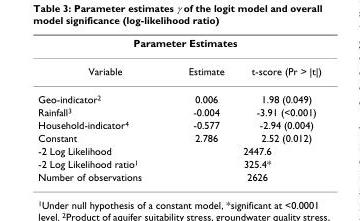table: (37, 36, 320, 182)
table column: (37, 36, 164, 182), (237, 36, 320, 182), (164, 36, 237, 182)
table column header: (37, 36, 320, 84)
table row: (37, 56, 320, 84), (37, 84, 320, 105), (37, 36, 320, 56), (37, 105, 320, 118), (37, 118, 320, 131), (37, 143, 320, 156), (37, 156, 320, 169), (37, 169, 320, 182), (37, 131, 320, 143)
table spanning cell: (37, 36, 320, 56), (164, 143, 320, 156), (164, 156, 320, 169), (164, 169, 320, 182)
